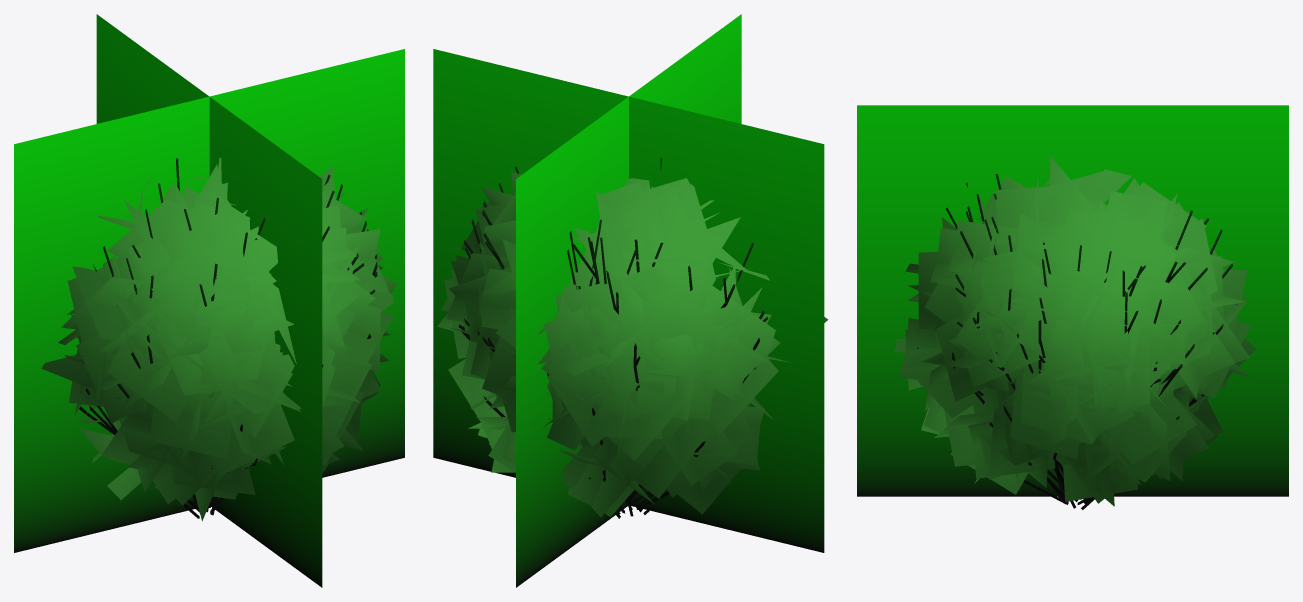
Rendered from IL3DN_Shrub_Round_02.FBX.
3 views of the same model, side by side, from view 1: azimuth 30°, elevation 25°; view 2: azimuth 150°, elevation 25°; view 3: azimuth 270°, elevation 25° (orthographic). The views are drawn at different scales.
Parts seen in each view (by area): view 1: IL3DN_Shrub_Round_02_Card, IL3DN_Shrub_Round_02_Leaves_LOD0, IL3DN_Shrub_Round_02_Branch_LOD0; view 2: IL3DN_Shrub_Round_02_Card, IL3DN_Shrub_Round_02_Leaves_LOD0, IL3DN_Shrub_Round_02_Branch_LOD0; view 3: IL3DN_Shrub_Round_02_Leaves_LOD0, IL3DN_Shrub_Round_02_Card, IL3DN_Shrub_Round_02_Branch_LOD0.
Part boxes in pixels (<box>): IL3DN_Shrub_Round_02_Card: <box>14,14,404,587</box>; IL3DN_Shrub_Round_02_Leaves_LOD0: <box>41,157,397,521</box>; IL3DN_Shrub_Round_02_Branch_LOD0: <box>79,158,377,518</box>; IL3DN_Shrub_Round_02_Card: <box>433,14,824,587</box>; IL3DN_Shrub_Round_02_Leaves_LOD0: <box>437,163,828,517</box>; IL3DN_Shrub_Round_02_Branch_LOD0: <box>459,158,767,518</box>; IL3DN_Shrub_Round_02_Leaves_LOD0: <box>894,156,1255,506</box>; IL3DN_Shrub_Round_02_Card: <box>857,105,1288,496</box>; IL3DN_Shrub_Round_02_Branch_LOD0: <box>917,174,1236,509</box>.
Size of what is drawn, in the model's own units: 78.74 by 80.52 by 78.74.
